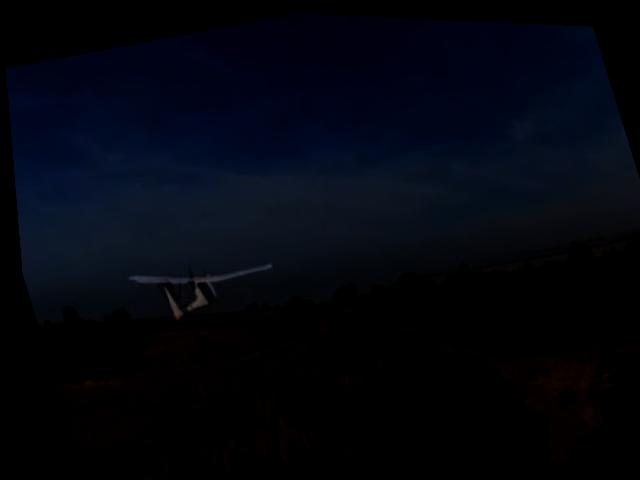uav: (114, 230, 290, 346)
